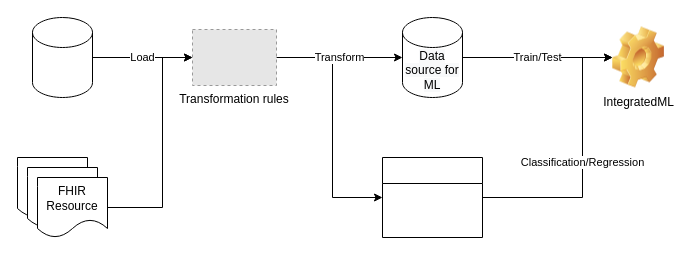
Some shapes in this 691 by 255 pixel diagram are drawn without their labels. Grey dashed boxes stand in for pictures. Here are the shapes that lost their labels. From the top down, the centre of each, then its label:
(62,57): FHIR DB
(432,197): Message
